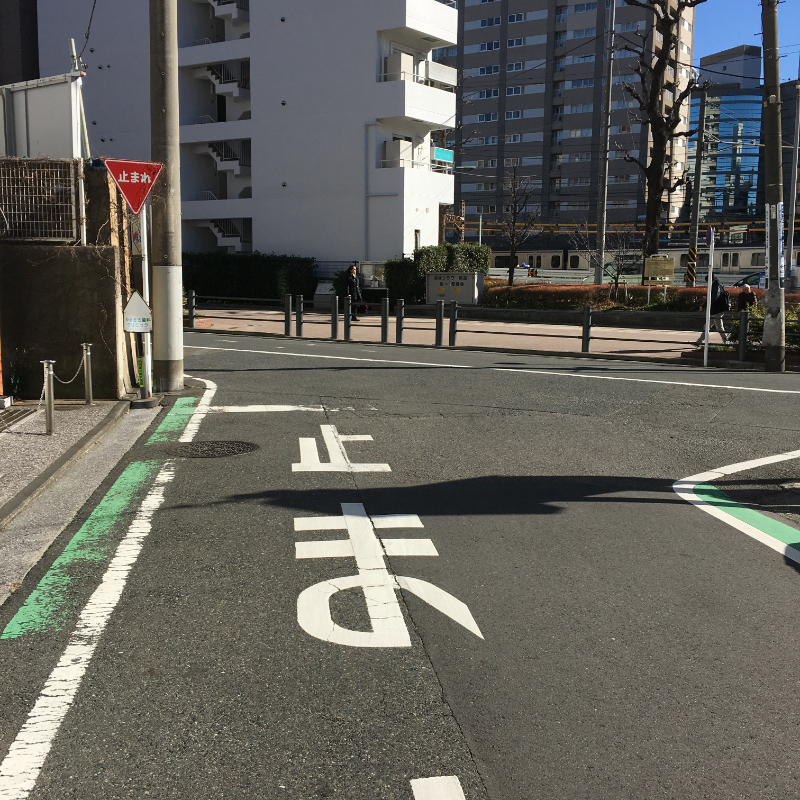STOP: (100, 157, 165, 216)
